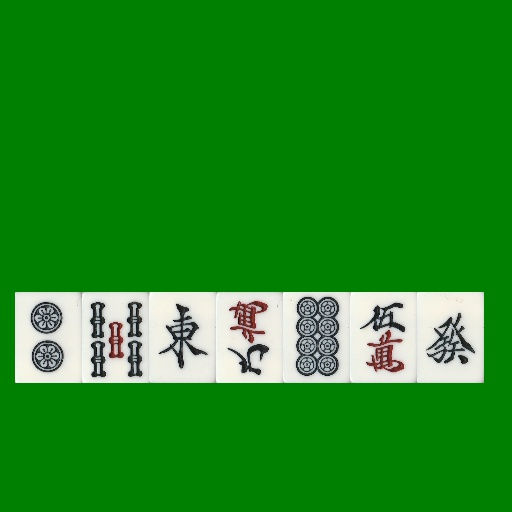2p: (15, 292, 82, 383)
5m: (350, 292, 417, 383)
5s: (82, 292, 149, 383)
8p: (283, 292, 350, 383)
9m: (216, 292, 283, 383)
east: (149, 292, 216, 383)
hatsu: (417, 292, 484, 383)
